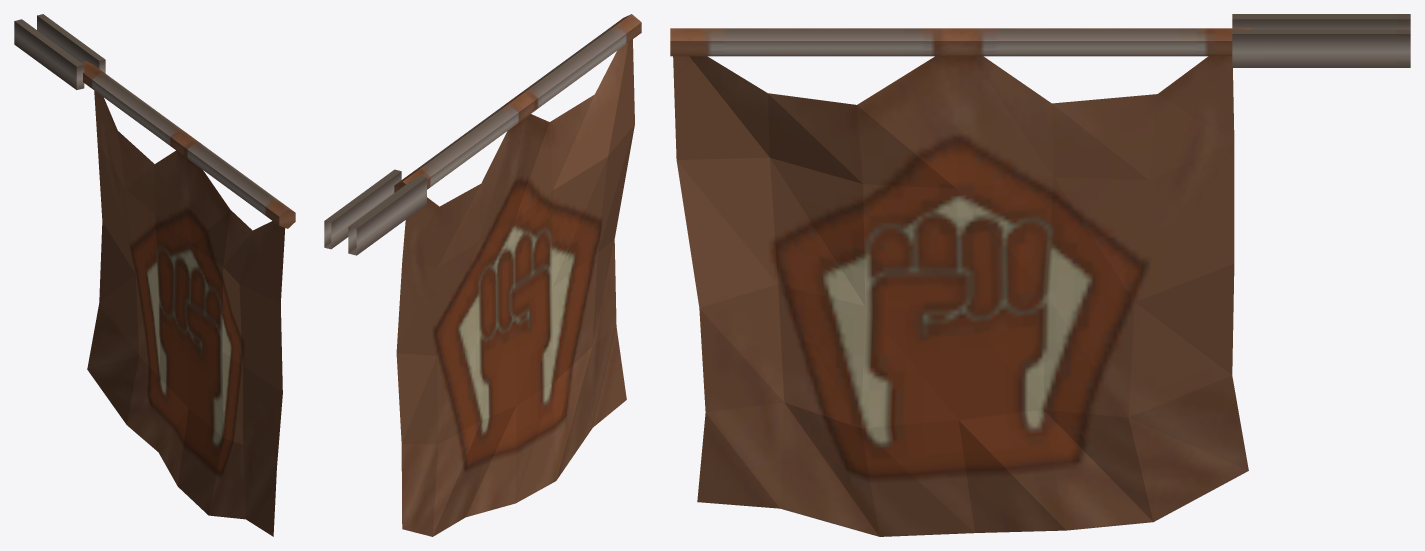
The model's file is TFlag_H.obj.
3 views of the same model, side by side, from view 1: azimuth 30°, elevation 25°; view 2: azimuth 150°, elevation 25°; view 3: azimuth 270°, elevation 25° (orthographic). The views are drawn at different scales.
Parts seen in each view (by area): view 1: Node 0; view 2: Node 0; view 3: Node 0.
Part boxes in pixels (x1,y1,x2,y2): Node 0: (14, 14, 295, 536); Node 0: (324, 14, 641, 536); Node 0: (670, 14, 1410, 536).
Bounding box in the file's own units: 0.23 × 2.75 × 3.57.
